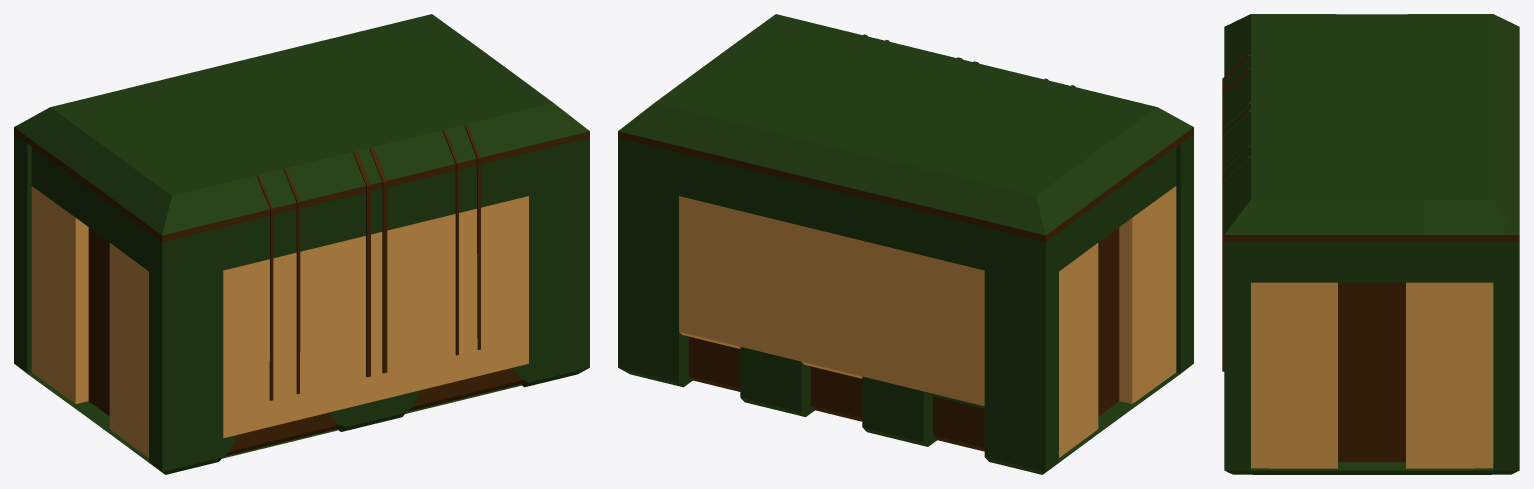
The model's file is CargoBox.glb.
3 views of the same model, side by side, from view 1: azimuth 30°, elevation 25°; view 2: azimuth 150°, elevation 25°; view 3: azimuth 270°, elevation 25° (orthographic).
Parts seen in each view (by area): view 1: cargo_box; view 2: cargo_box; view 3: cargo_box.
Part boxes in pixels (x1,y1,x2,y2): cargo_box: (14, 14, 589, 474); cargo_box: (618, 14, 1193, 474); cargo_box: (1222, 14, 1519, 474).
Size of the model in its own units: 3.51 by 2.11 by 2.12.
